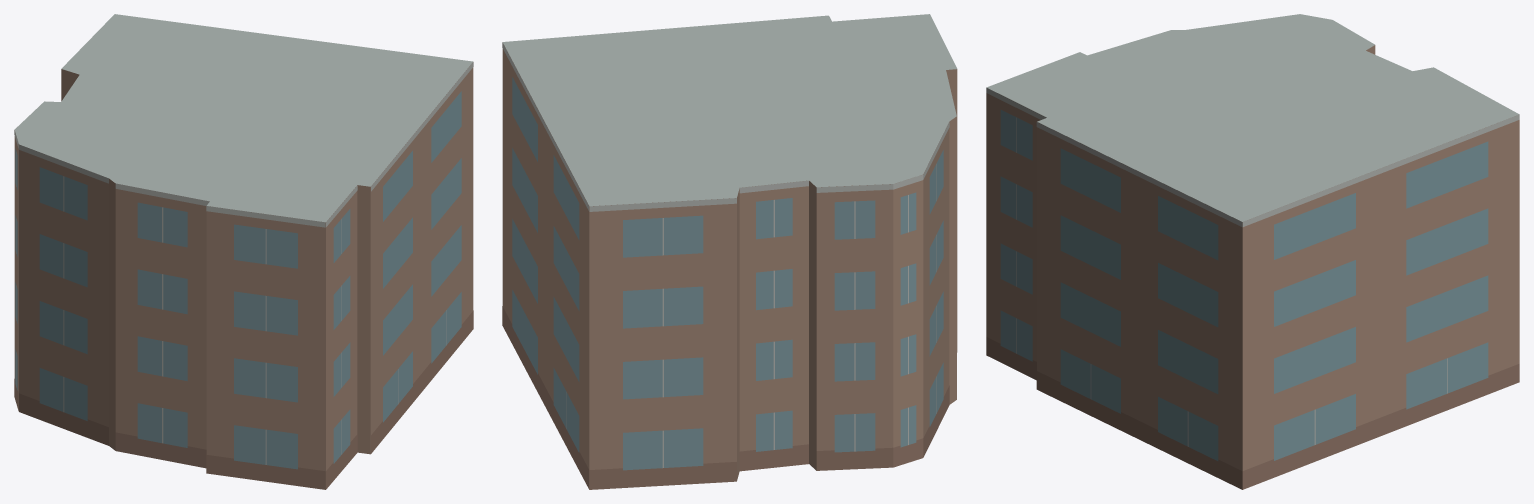
File: survey-upis-32968303.glb
3 views of the same model, side by side, from view 1: azimuth 30°, elevation 25°; view 2: azimuth 150°, elevation 25°; view 3: azimuth 270°, elevation 25° (orthographic). The views are drawn at different scales.
Parts seen in each view (by area): view 1: survey-upis-32968303.tmp; view 2: survey-upis-32968303.tmp; view 3: survey-upis-32968303.tmp.
Boxes of the visible parts, bbox=[...] form: survey-upis-32968303.tmp: bbox=[14, 14, 473, 489]; survey-upis-32968303.tmp: bbox=[502, 14, 957, 489]; survey-upis-32968303.tmp: bbox=[986, 14, 1519, 489].
Bounding box in the file's own units: 20.32 × 12.2 × 22.01.
